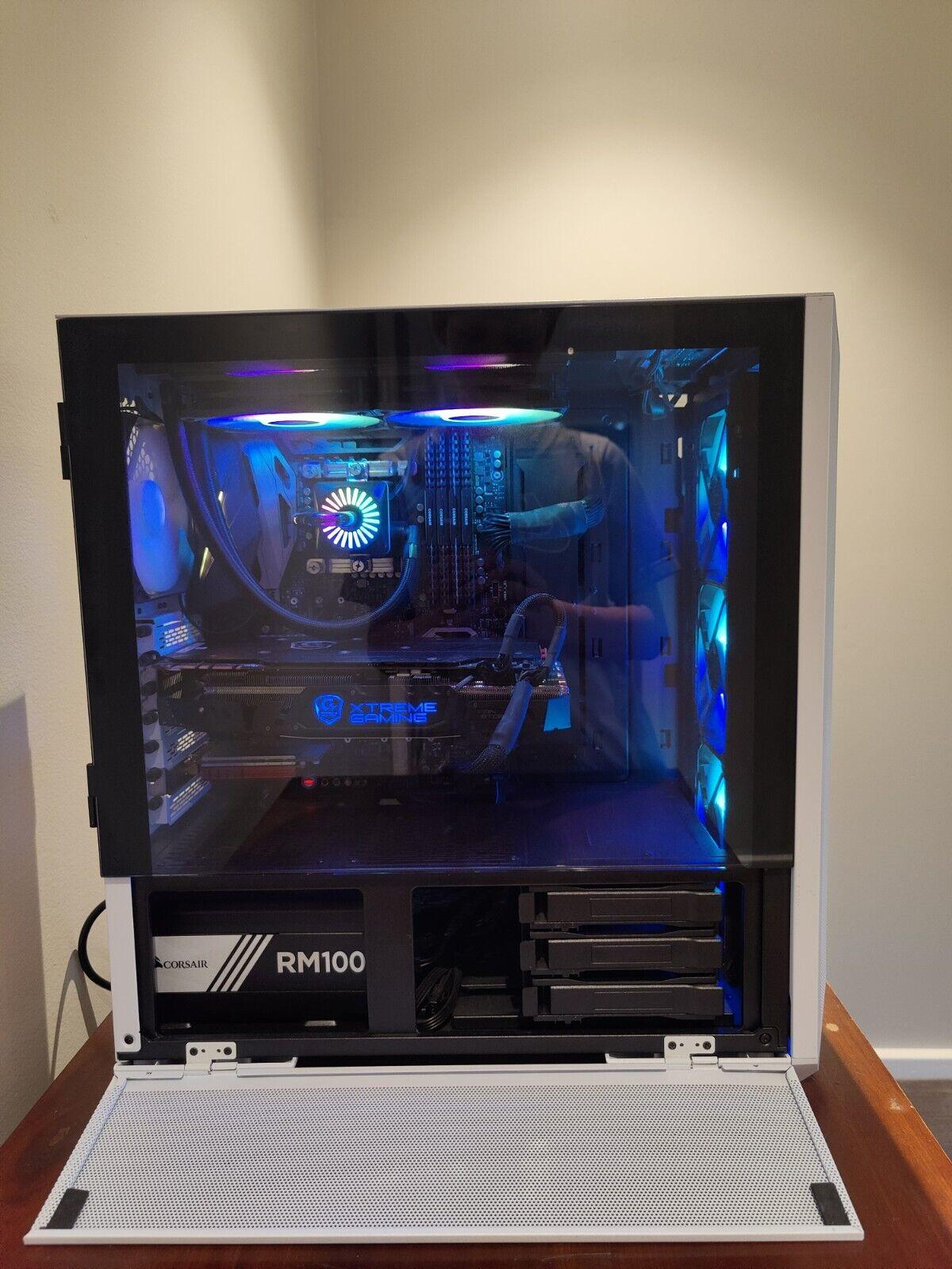DESKTOP PC: (37, 270, 853, 1087)
